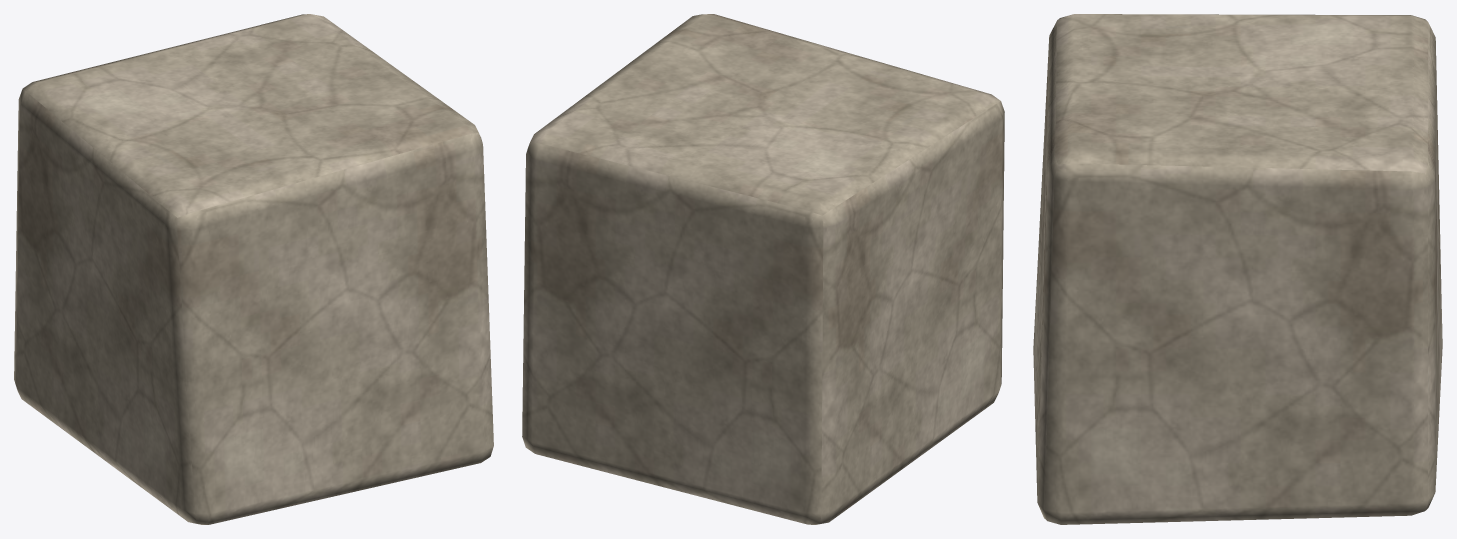
File: Stone_Block_A.glb
The picture shows the model from 3 angles, left to right: view 1: azimuth 30°, elevation 25°; view 2: azimuth 150°, elevation 25°; view 3: azimuth 270°, elevation 25°; orthographic projection. The views are drawn at different scales.
Parts seen in each view (by area): view 1: Stone_Block_A; view 2: Stone_Block_A; view 3: Stone_Block_A.
Part boxes in pixels (box(x1,y1,x2,y2)): Stone_Block_A: box(14, 14, 493, 524); Stone_Block_A: box(522, 14, 1004, 524); Stone_Block_A: box(1033, 14, 1442, 524).
Size of the model in its own units: 0.5123 by 0.5112 by 0.5129.
Materials: 1 (1 with a texture image).
